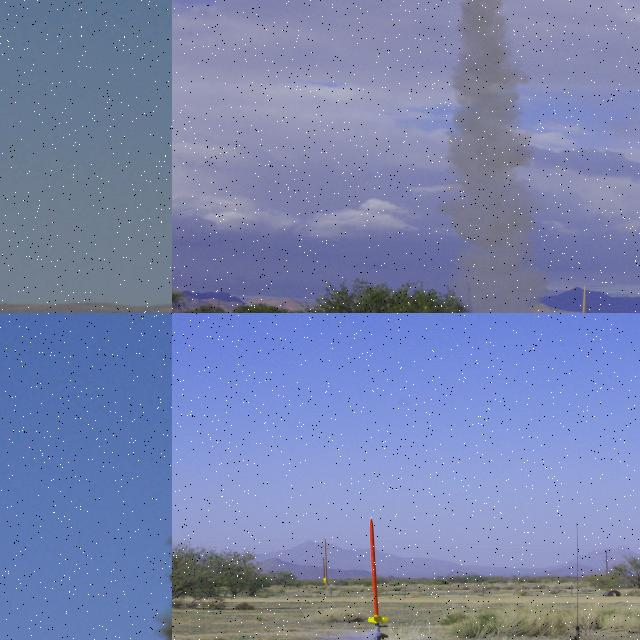Rocket: (367, 516, 389, 624)
